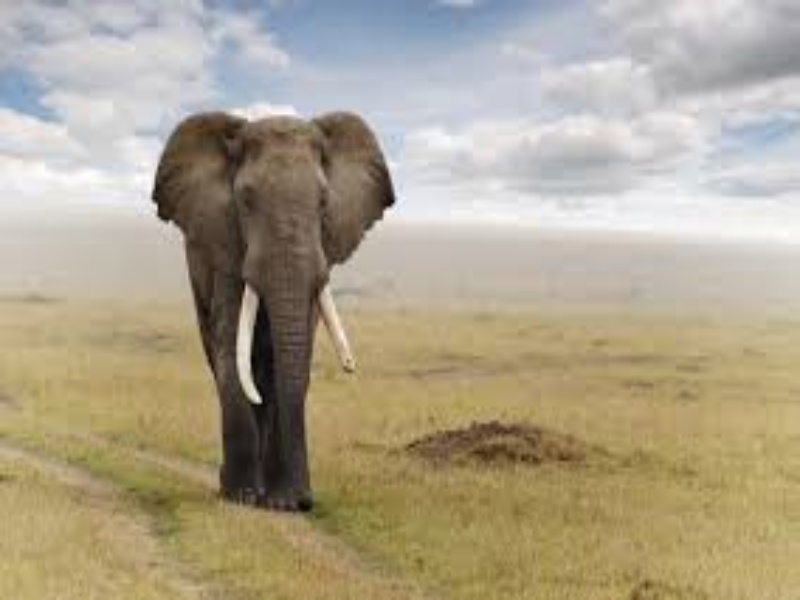elephant: (144, 104, 411, 520)
